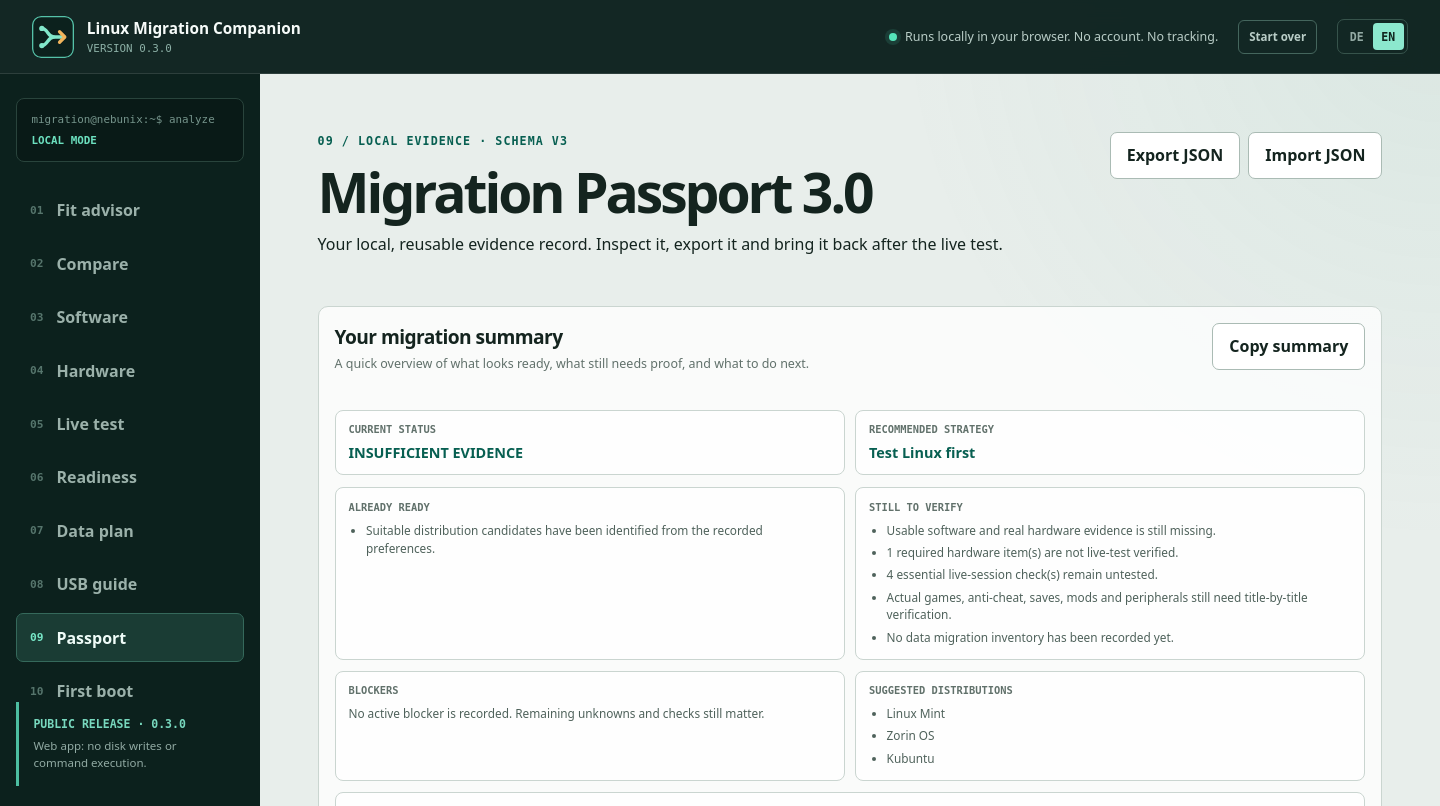
it: public release application flow › fails gracefully when clipboard access is unavailable
The image size is (1440, 806).
What coordinates should you click on to do the following:
click the button "Copy summary"
I would click on:
 (1289, 346)
Its box is x1=1212 y1=323 x2=1365 y2=370.
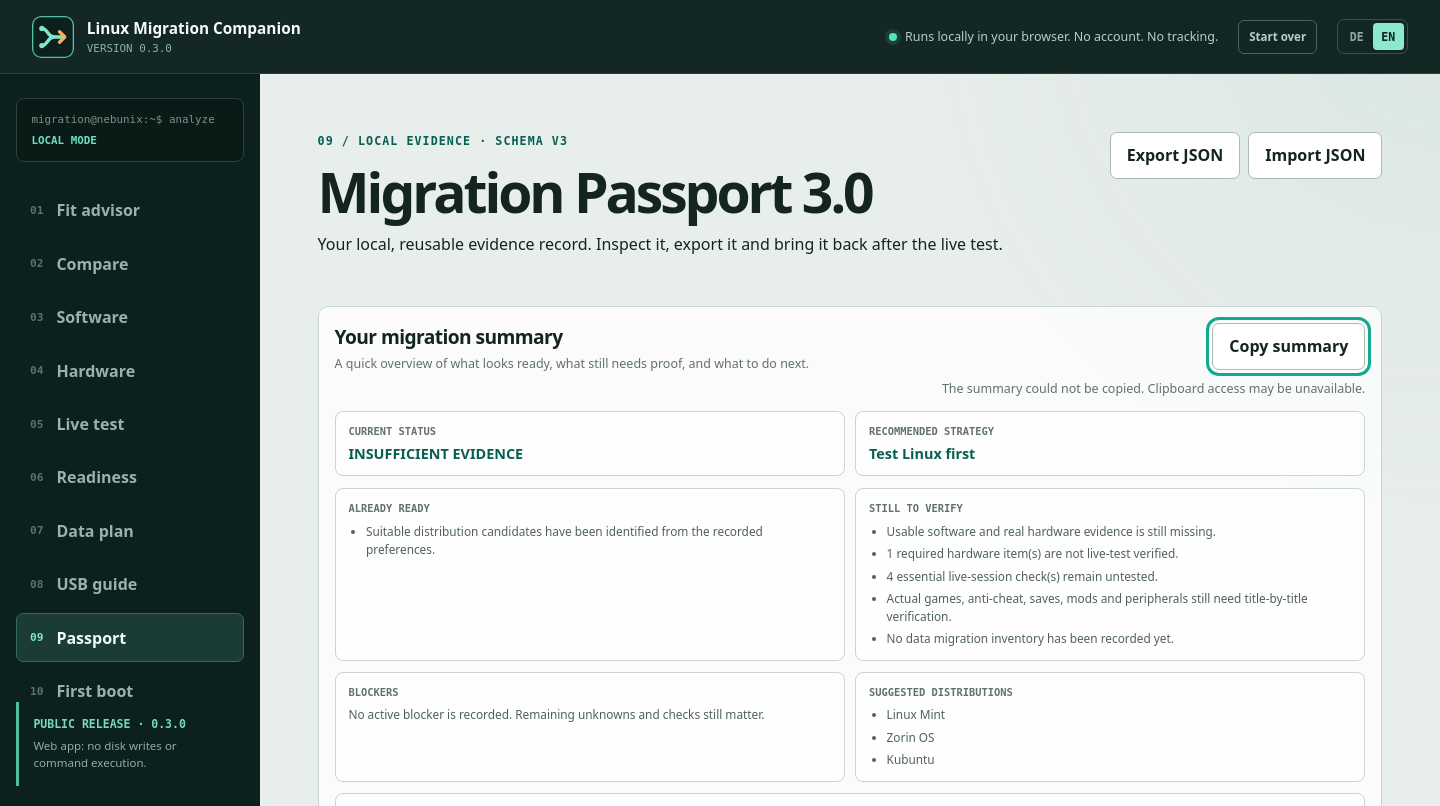
Check: the message reads "The summary could not be copied. Clipboard access may be unavailable.", box x1=942 y1=380 x2=1365 y2=397
